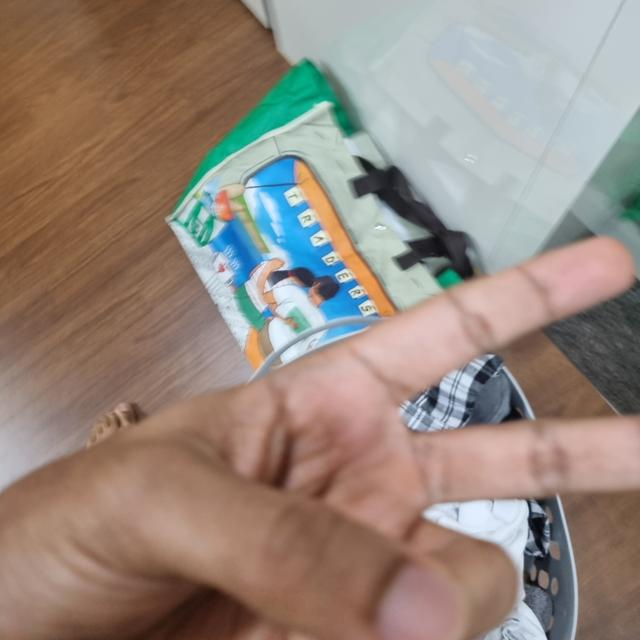Scissors: (1, 237, 638, 639)
